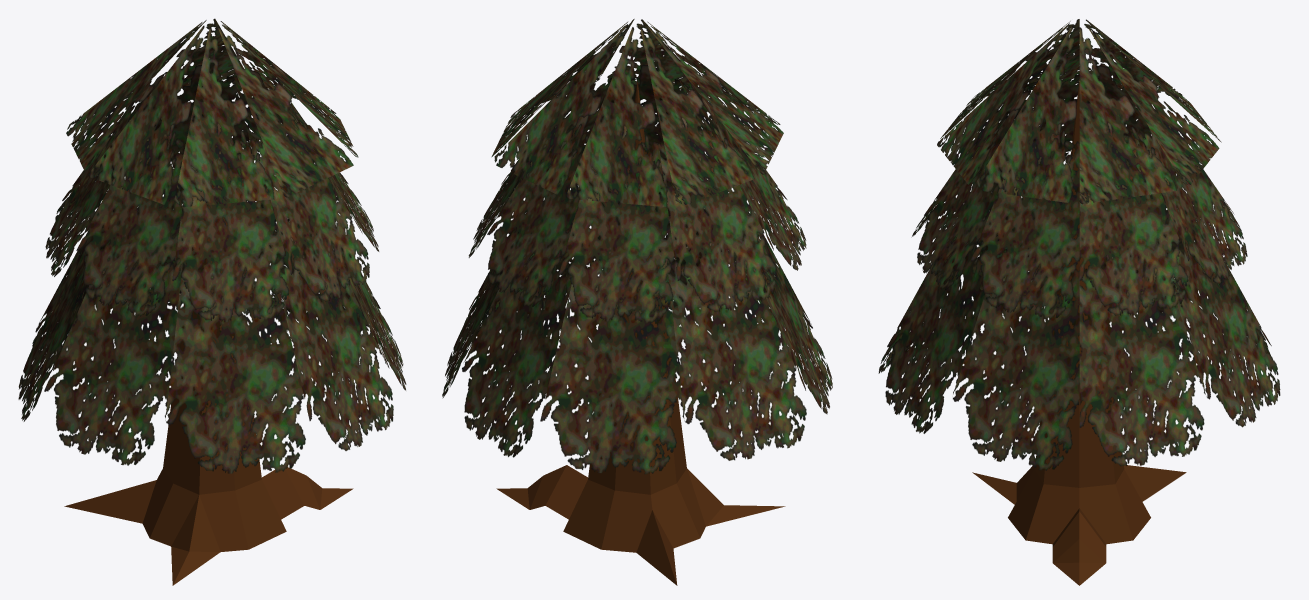
The model's file is dying tree.glb.
3 renders of one model, left to right at view 1: azimuth 30°, elevation 25°; view 2: azimuth 150°, elevation 25°; view 3: azimuth 270°, elevation 25°, orthographic.
Parts seen in each view (by area): view 1: tree2; view 2: tree2; view 3: tree2.
Boxes of the visible parts, box(x1,y1,x2,y2) form: tree2: box(18, 18, 406, 585); tree2: box(442, 19, 832, 585); tree2: box(878, 19, 1280, 585).
Bounding box in the file's own units: 1.8 × 2.33 × 1.8.
Materials: 2 (1 with a texture image).
